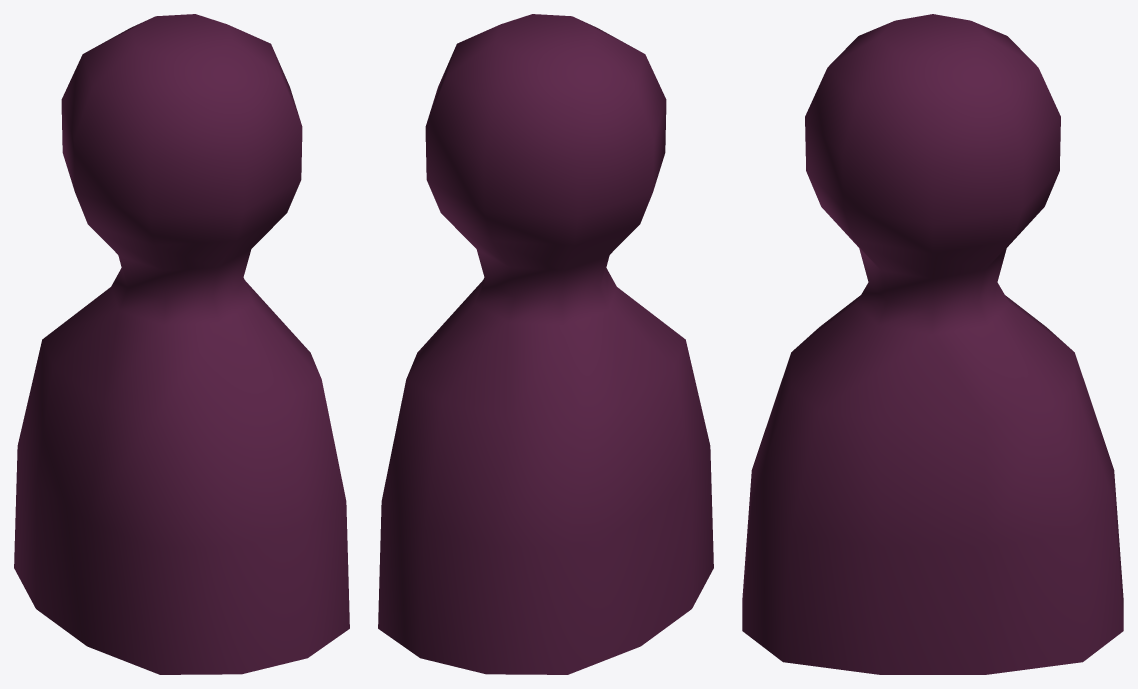
File: Pawn_Purple.fbx
3 renders of one model, left to right at view 1: azimuth 30°, elevation 25°; view 2: azimuth 150°, elevation 25°; view 3: azimuth 270°, elevation 25°, orthographic. The views are drawn at different scales.
Parts seen in each view (by area): view 1: Pawn_Purple; view 2: Pawn_Purple; view 3: Pawn_Purple.
Boxes of the visible parts, x1=… form: Pawn_Purple: x1=14, y1=14, x2=349, y2=674; Pawn_Purple: x1=378, y1=14, x2=713, y2=674; Pawn_Purple: x1=742, y1=14, x2=1123, y2=674.
Bounding box in the file's own units: 63.06 × 141 × 84.16.
